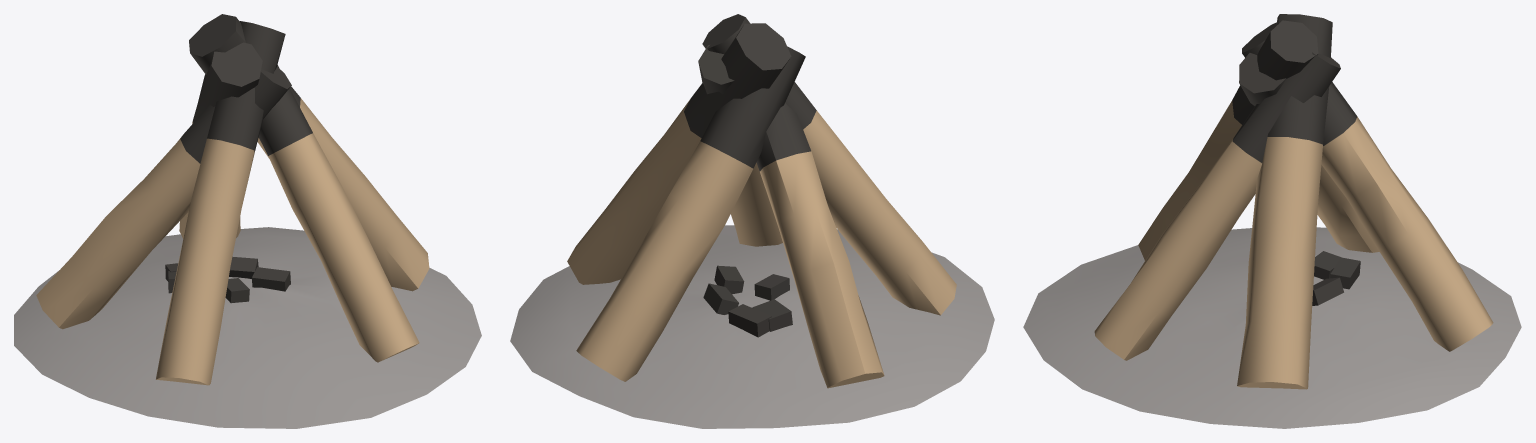
File: SM_CampfireLogs.glb
3 views of the same model, side by side, from view 1: azimuth 30°, elevation 25°; view 2: azimuth 150°, elevation 25°; view 3: azimuth 270°, elevation 25° (orthographic). The views are drawn at different scales.
Parts seen in each view (by area): view 1: SM_CampfireLogs; view 2: SM_CampfireLogs; view 3: SM_CampfireLogs.
Boxes of the visible parts, x1,y1,x2,y2 form: SM_CampfireLogs: (14,14,481,428); SM_CampfireLogs: (510,14,994,428); SM_CampfireLogs: (1023,14,1521,428).
Size of the model in its own units: 1.06 by 0.7598 by 1.09.
